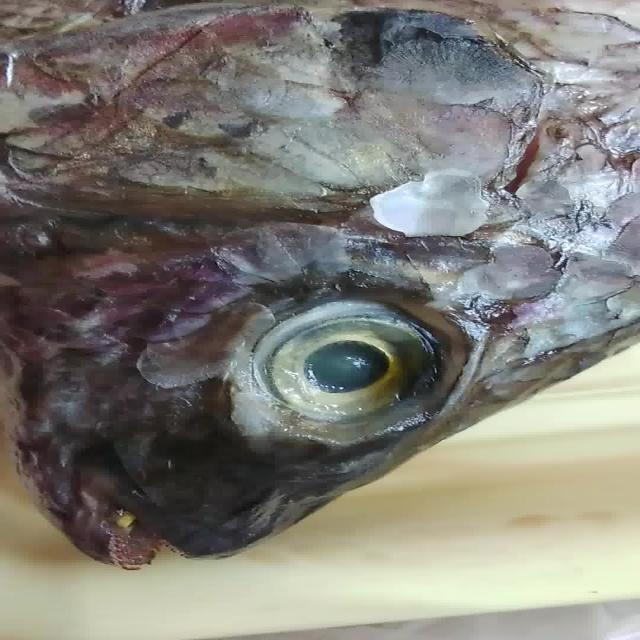Non-Fresh: (211, 274, 490, 469)
